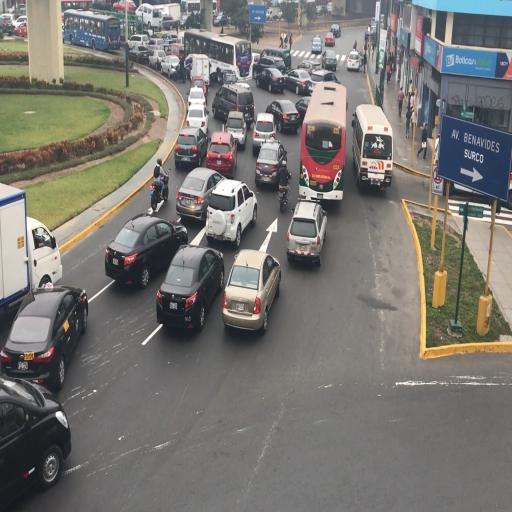auto: (1, 374, 71, 506), (2, 284, 88, 390), (104, 210, 186, 287), (156, 245, 223, 332), (221, 249, 279, 334), (204, 176, 255, 246), (176, 167, 225, 225), (286, 198, 326, 266), (212, 81, 253, 125), (254, 138, 287, 189), (205, 130, 238, 177), (174, 125, 207, 169), (264, 98, 300, 134), (252, 112, 277, 154), (252, 66, 286, 94), (224, 112, 247, 148), (185, 101, 208, 137), (286, 68, 314, 96), (167, 40, 186, 70), (310, 67, 336, 88), (160, 54, 182, 78), (187, 86, 207, 112), (148, 48, 168, 71), (128, 44, 151, 64), (127, 33, 150, 51), (0, 13, 16, 35), (322, 49, 337, 70), (180, 11, 198, 28), (295, 60, 314, 76), (14, 17, 28, 38), (160, 14, 177, 31), (147, 37, 165, 53), (346, 50, 359, 72), (112, 0, 132, 13), (311, 36, 322, 54), (214, 12, 228, 26), (268, 7, 282, 20), (330, 23, 341, 37), (324, 31, 334, 46)
bus: (300, 80, 346, 204), (354, 103, 394, 196), (184, 28, 247, 83), (65, 10, 122, 52), (134, 2, 162, 30), (212, 0, 219, 17)
camion: (0, 184, 61, 328), (258, 46, 292, 74), (186, 53, 210, 88)
moto: (150, 168, 172, 210), (277, 175, 292, 214)
